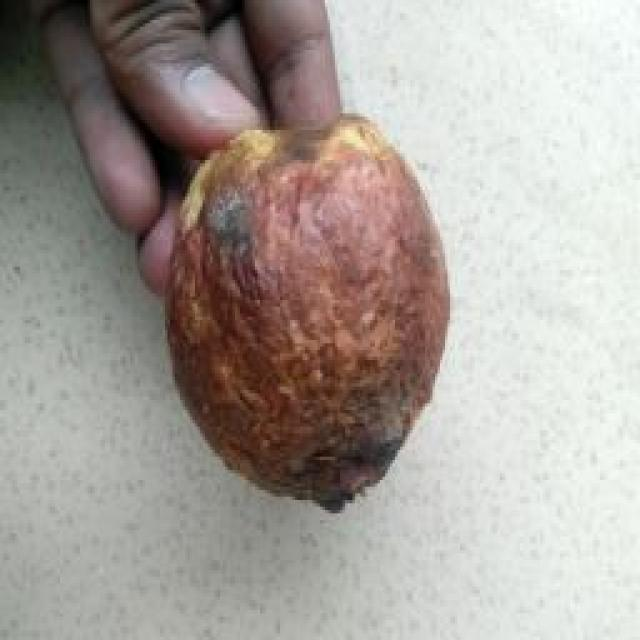Bad_Guava: (168, 118, 449, 509)
